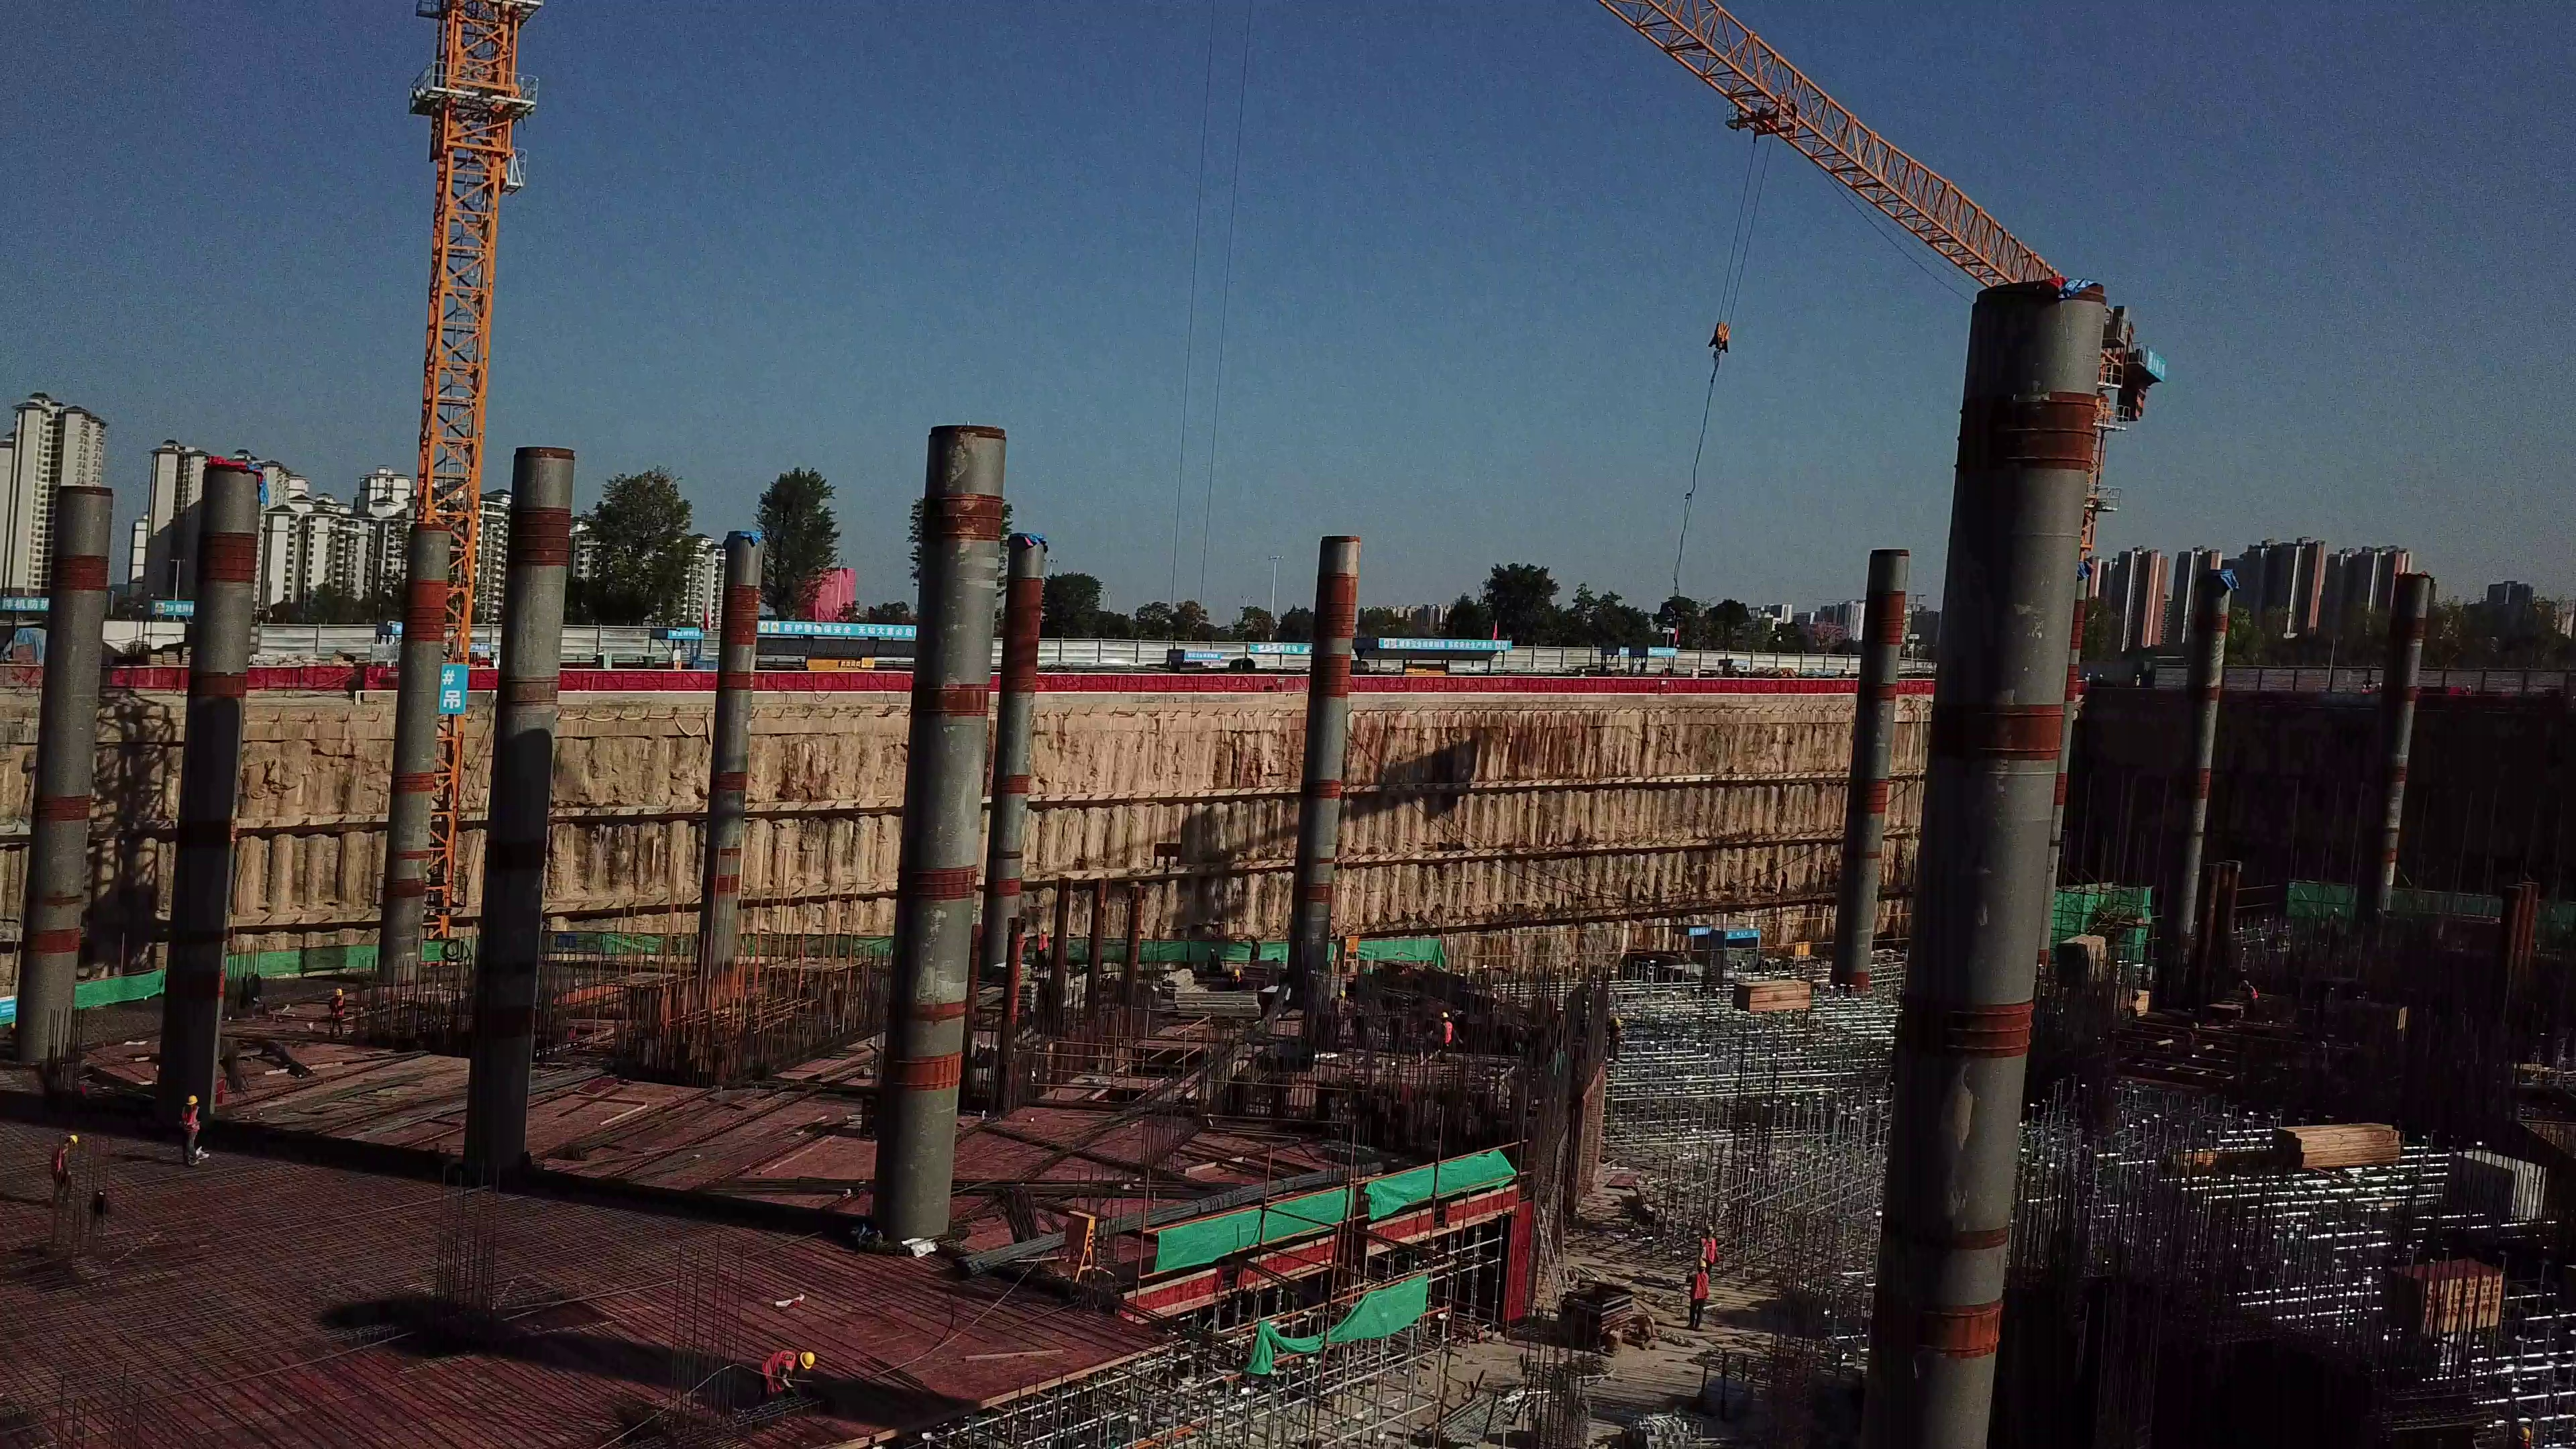ebox: (1061, 1209, 1101, 1277), (1790, 935, 1815, 961), (1342, 932, 1361, 963)
fence: (1037, 669, 1307, 694), (561, 667, 717, 692), (1350, 673, 1527, 694), (754, 668, 910, 692), (1529, 676, 1727, 694), (249, 663, 359, 694), (105, 663, 189, 692), (1729, 675, 1855, 692), (1898, 677, 1935, 694)
helmet: (799, 1349, 816, 1371), (64, 1133, 84, 1147), (183, 1093, 200, 1106), (331, 987, 345, 996), (1695, 1262, 1709, 1271), (1440, 1010, 1450, 1019), (1039, 923, 1047, 932)
hook: (1709, 321, 1739, 367)
person: (757, 1340, 828, 1407), (44, 1131, 85, 1212), (171, 1092, 209, 1170), (1680, 1263, 1719, 1327), (1432, 1006, 1466, 1063), (1695, 1222, 1728, 1272), (321, 986, 353, 1036), (1033, 924, 1053, 975)
rebar: (958, 1161, 1405, 1274), (704, 1167, 1220, 1202), (1005, 1173, 1047, 1279)
vest: (764, 1349, 799, 1391), (1691, 1273, 1710, 1299), (180, 1111, 199, 1131), (1701, 1237, 1717, 1258), (1442, 1021, 1454, 1045), (1036, 934, 1049, 949)
wood: (2271, 1117, 2405, 1172), (1730, 976, 1817, 1015)
